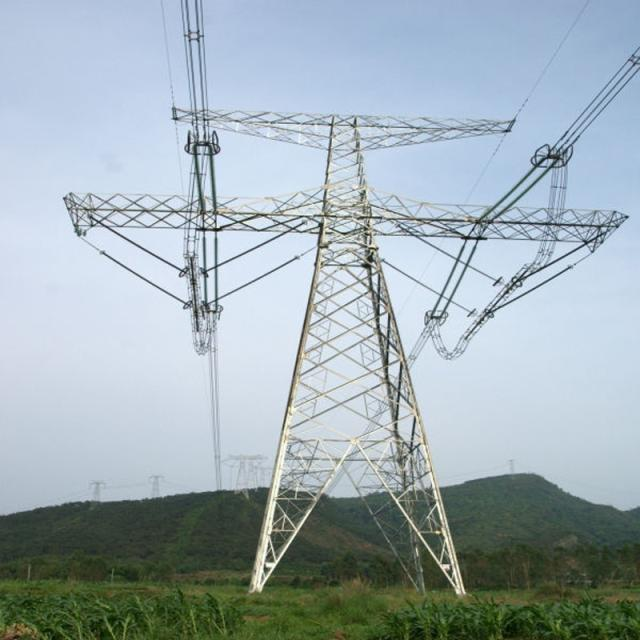non-critical vegetation: (168, 95, 530, 592)
